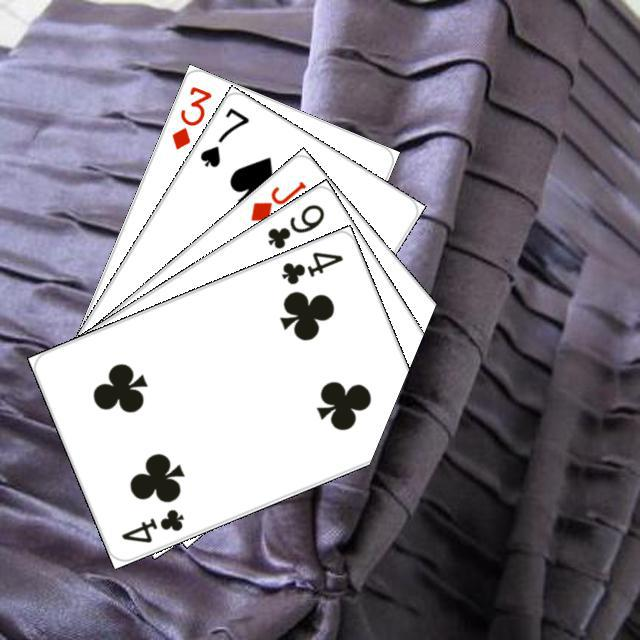3d: (167, 81, 214, 152)
4c: (116, 503, 186, 545), (276, 246, 345, 287)
7s: (194, 102, 251, 170)
9c: (262, 199, 327, 251)
Jd: (245, 176, 309, 224)
